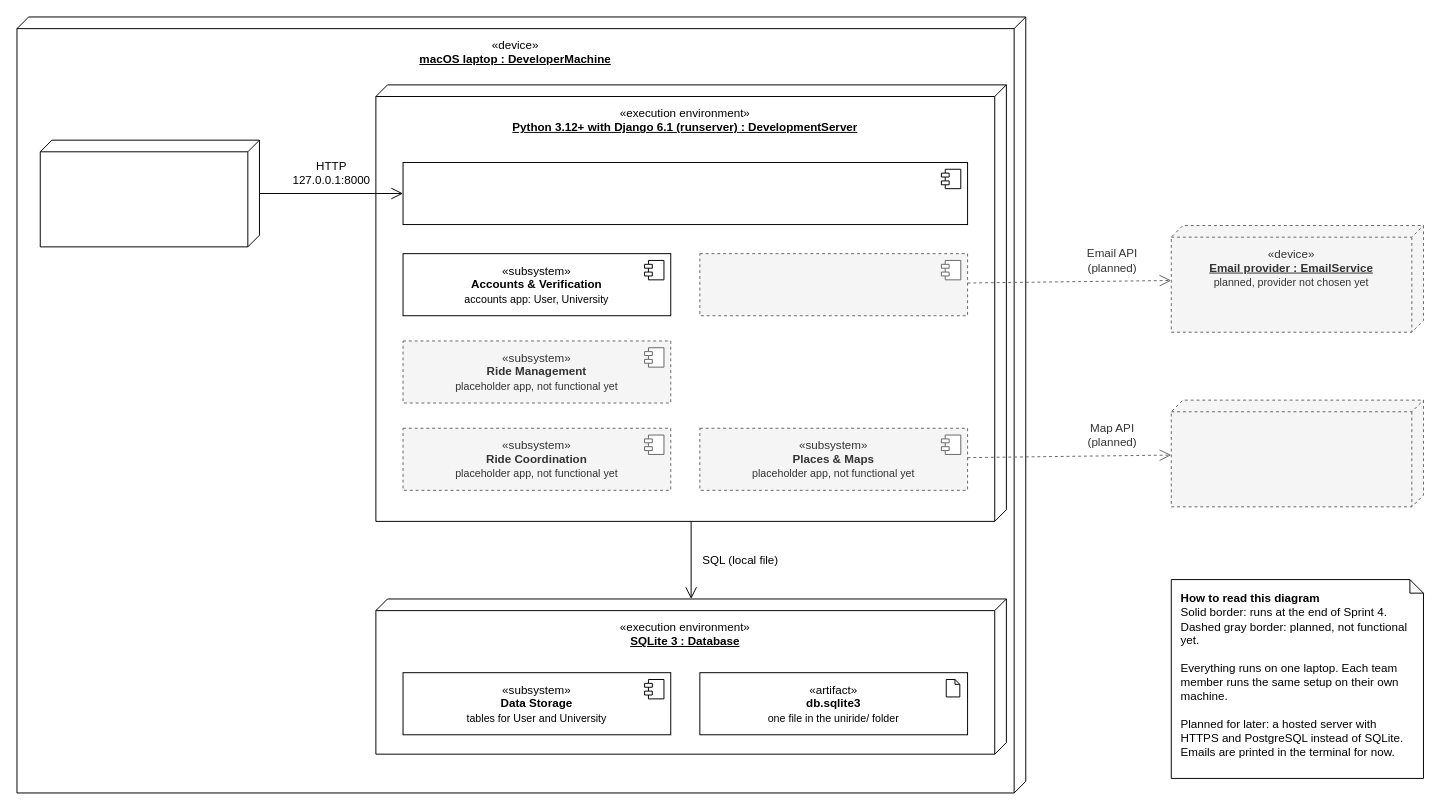
Image size: 1440x810. Some labels were removed from this diagram. The shapes that lost their labels are listed below. From the top down, each one's centre as x and y in pixels, then its label:
At point (149, 193): "«execution environment» Web browser : StudentBrowser shows UniRide's HTML pages".
At point (685, 193): "«subsystem» Web UI templates + views: home, create account, sign in".
At point (833, 284): "«subsystem» Notifications placeholder app, not functional yet".
At point (1296, 453): "«device» Map provider : MapService planned, provider not chosen yet".
